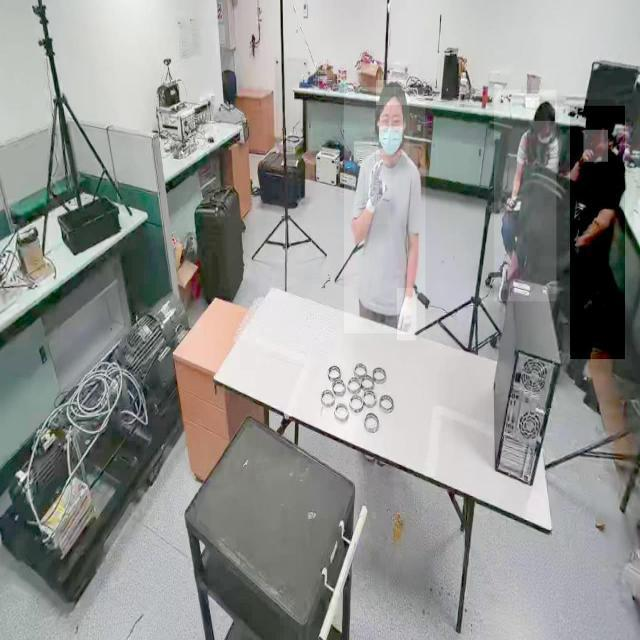gloves: (366, 161, 390, 224), (397, 288, 417, 342)
